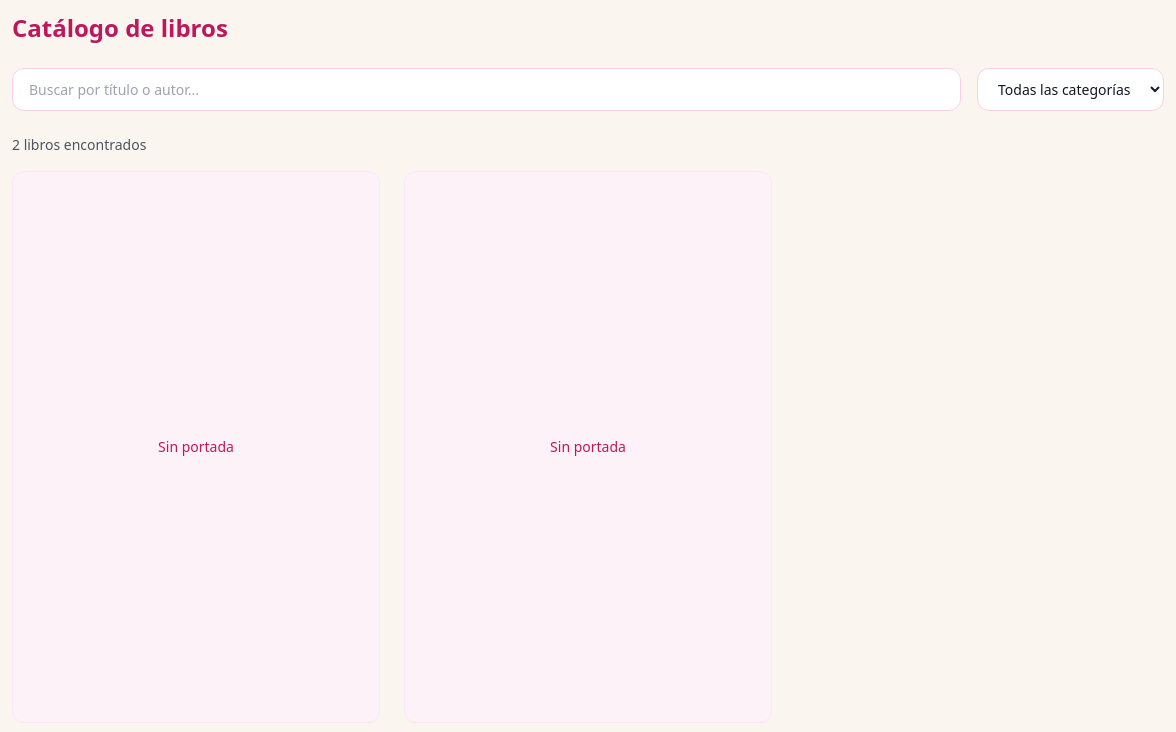
Test case: BooksPage › muestra mensaje cuando no hay resultados
Step 1. Type "libro inexistente" into the field with placeholder "Buscar por título o autor..." → (486, 90), box [12,68,961,111]
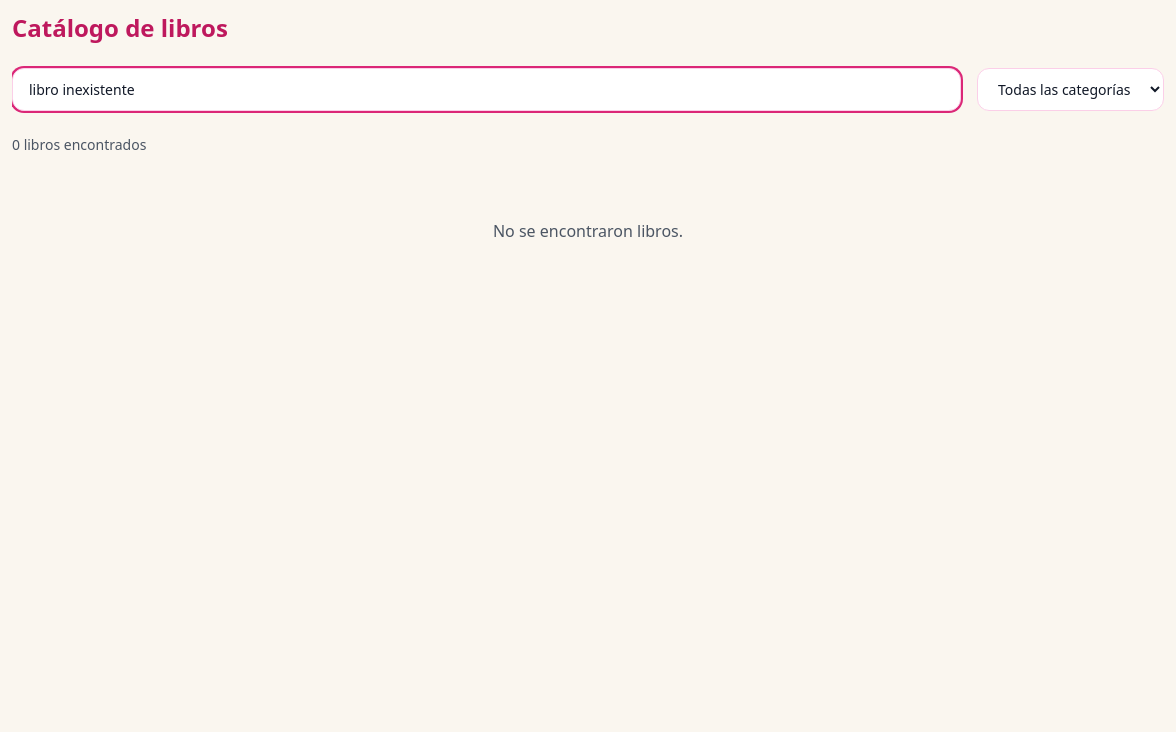
Expected: the text "No se encontraron libros." is shown, [493,220,683,242]
